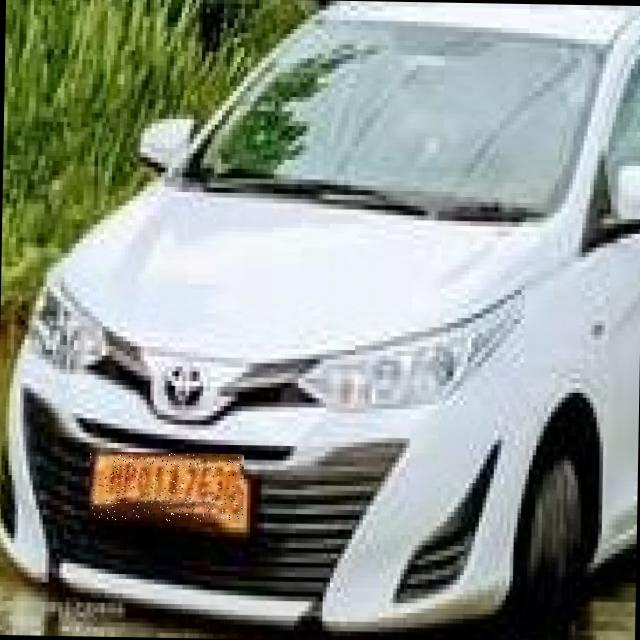Plate: (90, 453, 245, 524)
